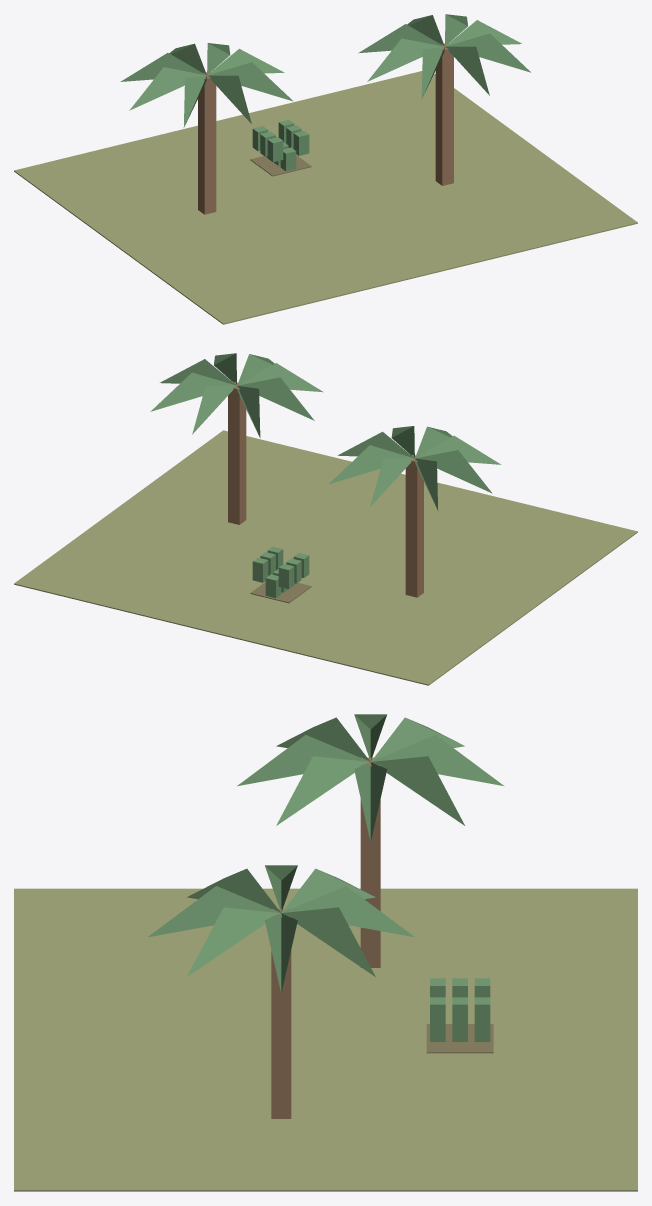
File: plot-tropical.glb
3 renders of one model, top to bottom at view 1: azimuth 30°, elevation 25°; view 2: azimuth 150°, elevation 25°; view 3: azimuth 270°, elevation 25°, orthographic. The views are drawn at different scales.
Bounding box in the file's own units: 15.96 × 5.52 × 13.96.
